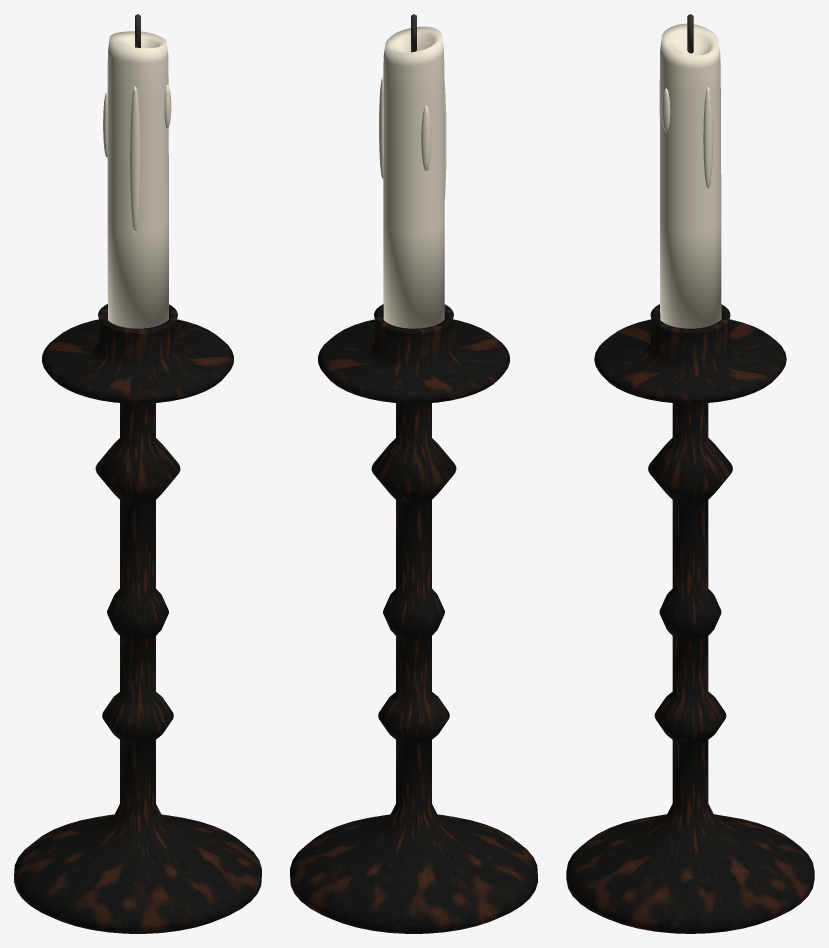
The model's file is candlestick.glb.
3 renders of one model, left to right at view 1: azimuth 30°, elevation 25°; view 2: azimuth 150°, elevation 25°; view 3: azimuth 270°, elevation 25°, orthographic.
Parts seen in each view (by area): view 1: Candlestick; view 2: Candlestick; view 3: Candlestick.
Part boxes in pixels (bbox=[...]): Candlestick: bbox=[14, 14, 261, 933]; Candlestick: bbox=[290, 14, 537, 933]; Candlestick: bbox=[566, 14, 814, 933].
Bounding box in the file's own units: 0.152 × 0.5895 × 0.152.
3 materials, 1 textured.
